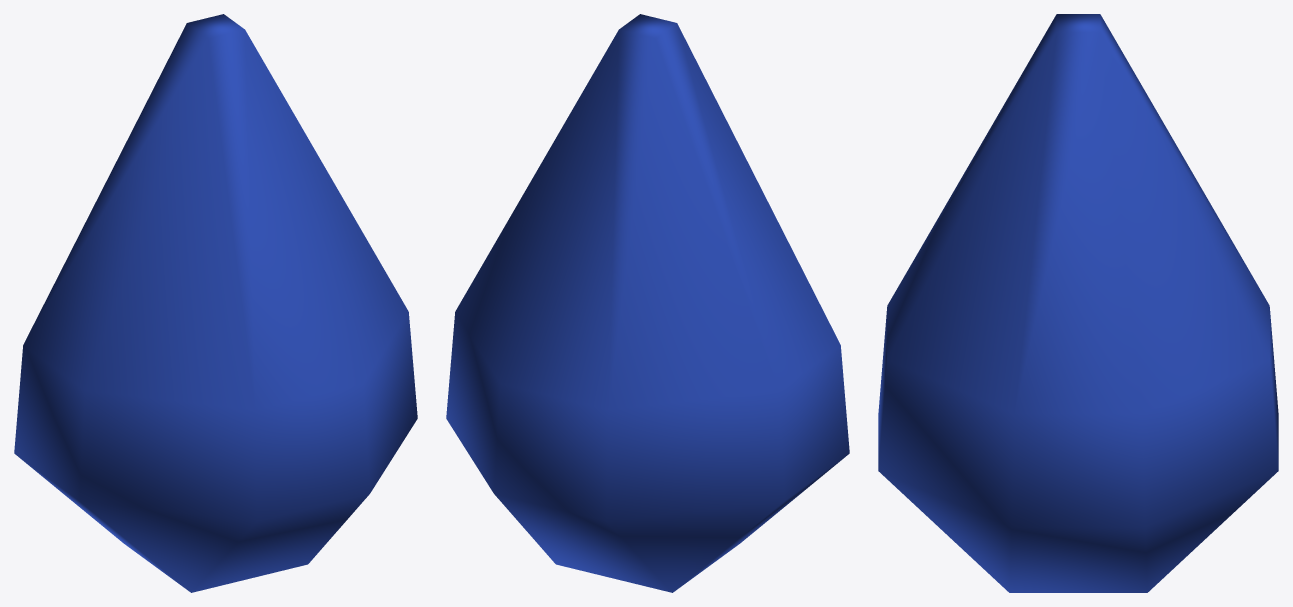
File: awa.fbx
3 renders of one model, left to right at view 1: azimuth 30°, elevation 25°; view 2: azimuth 150°, elevation 25°; view 3: azimuth 270°, elevation 25°, orthographic. The views are drawn at different scales.
Parts seen in each view (by area): view 1: pCube1; view 2: pCube1; view 3: pCube1.
Part boxes in pixels (bbox=[...]): pCube1: bbox=[14, 14, 417, 592]; pCube1: bbox=[446, 14, 849, 592]; pCube1: bbox=[878, 14, 1278, 592].
Bounding box in the file's own units: 61.61 × 91.8 × 61.61.
